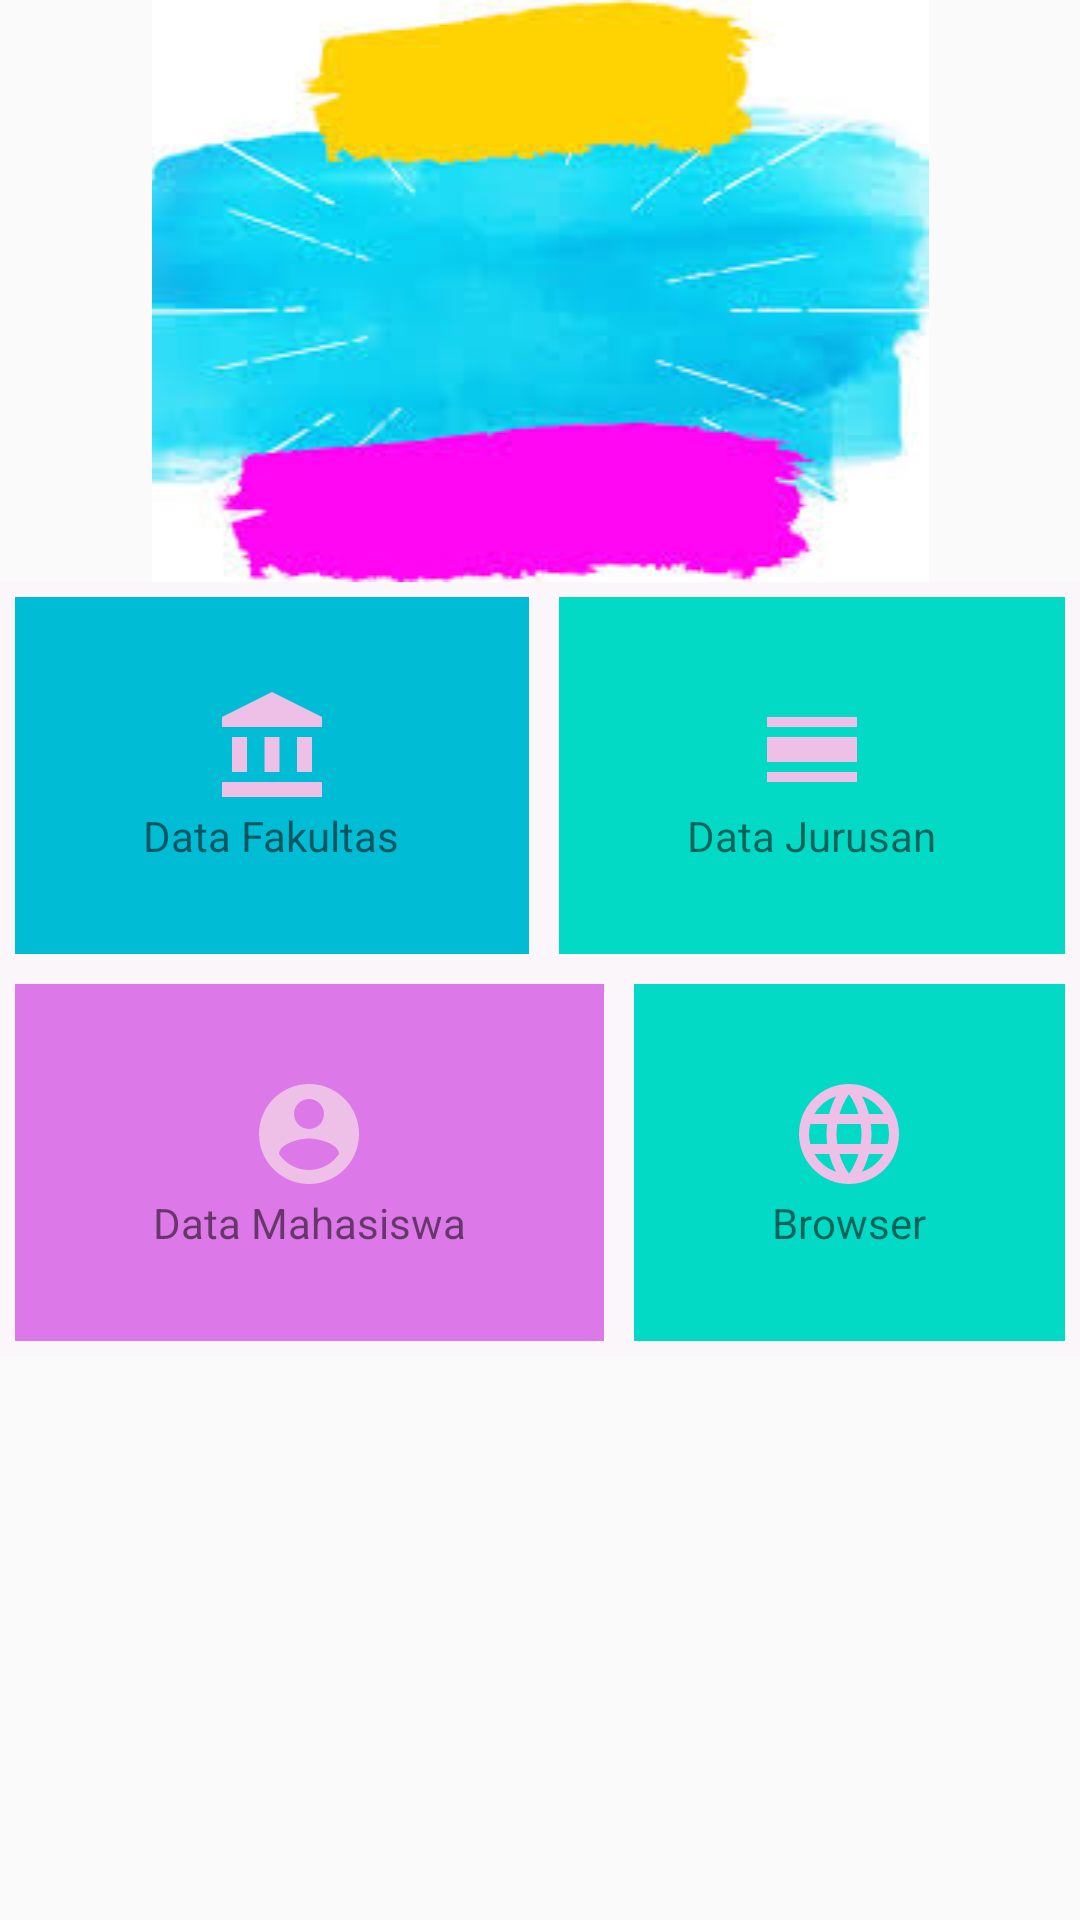

Icon click points for this 1080*1920 phone screenshot, format (x,y):
akun: (309,1134)
